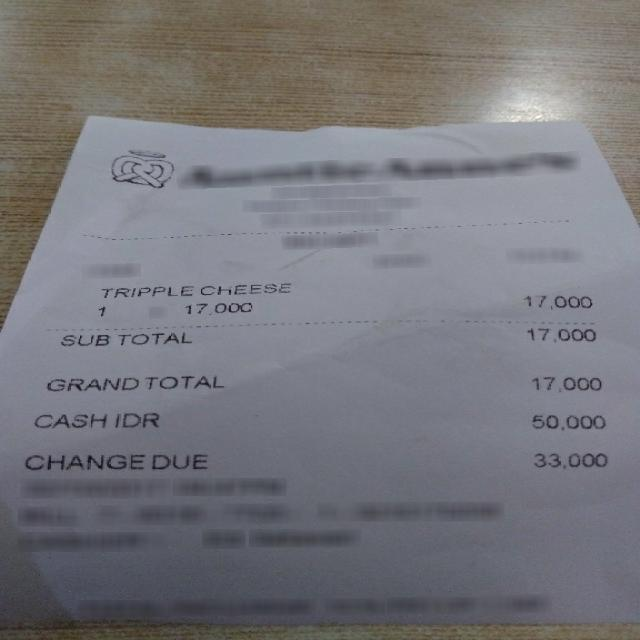kertas: (0, 5, 117, 640)
